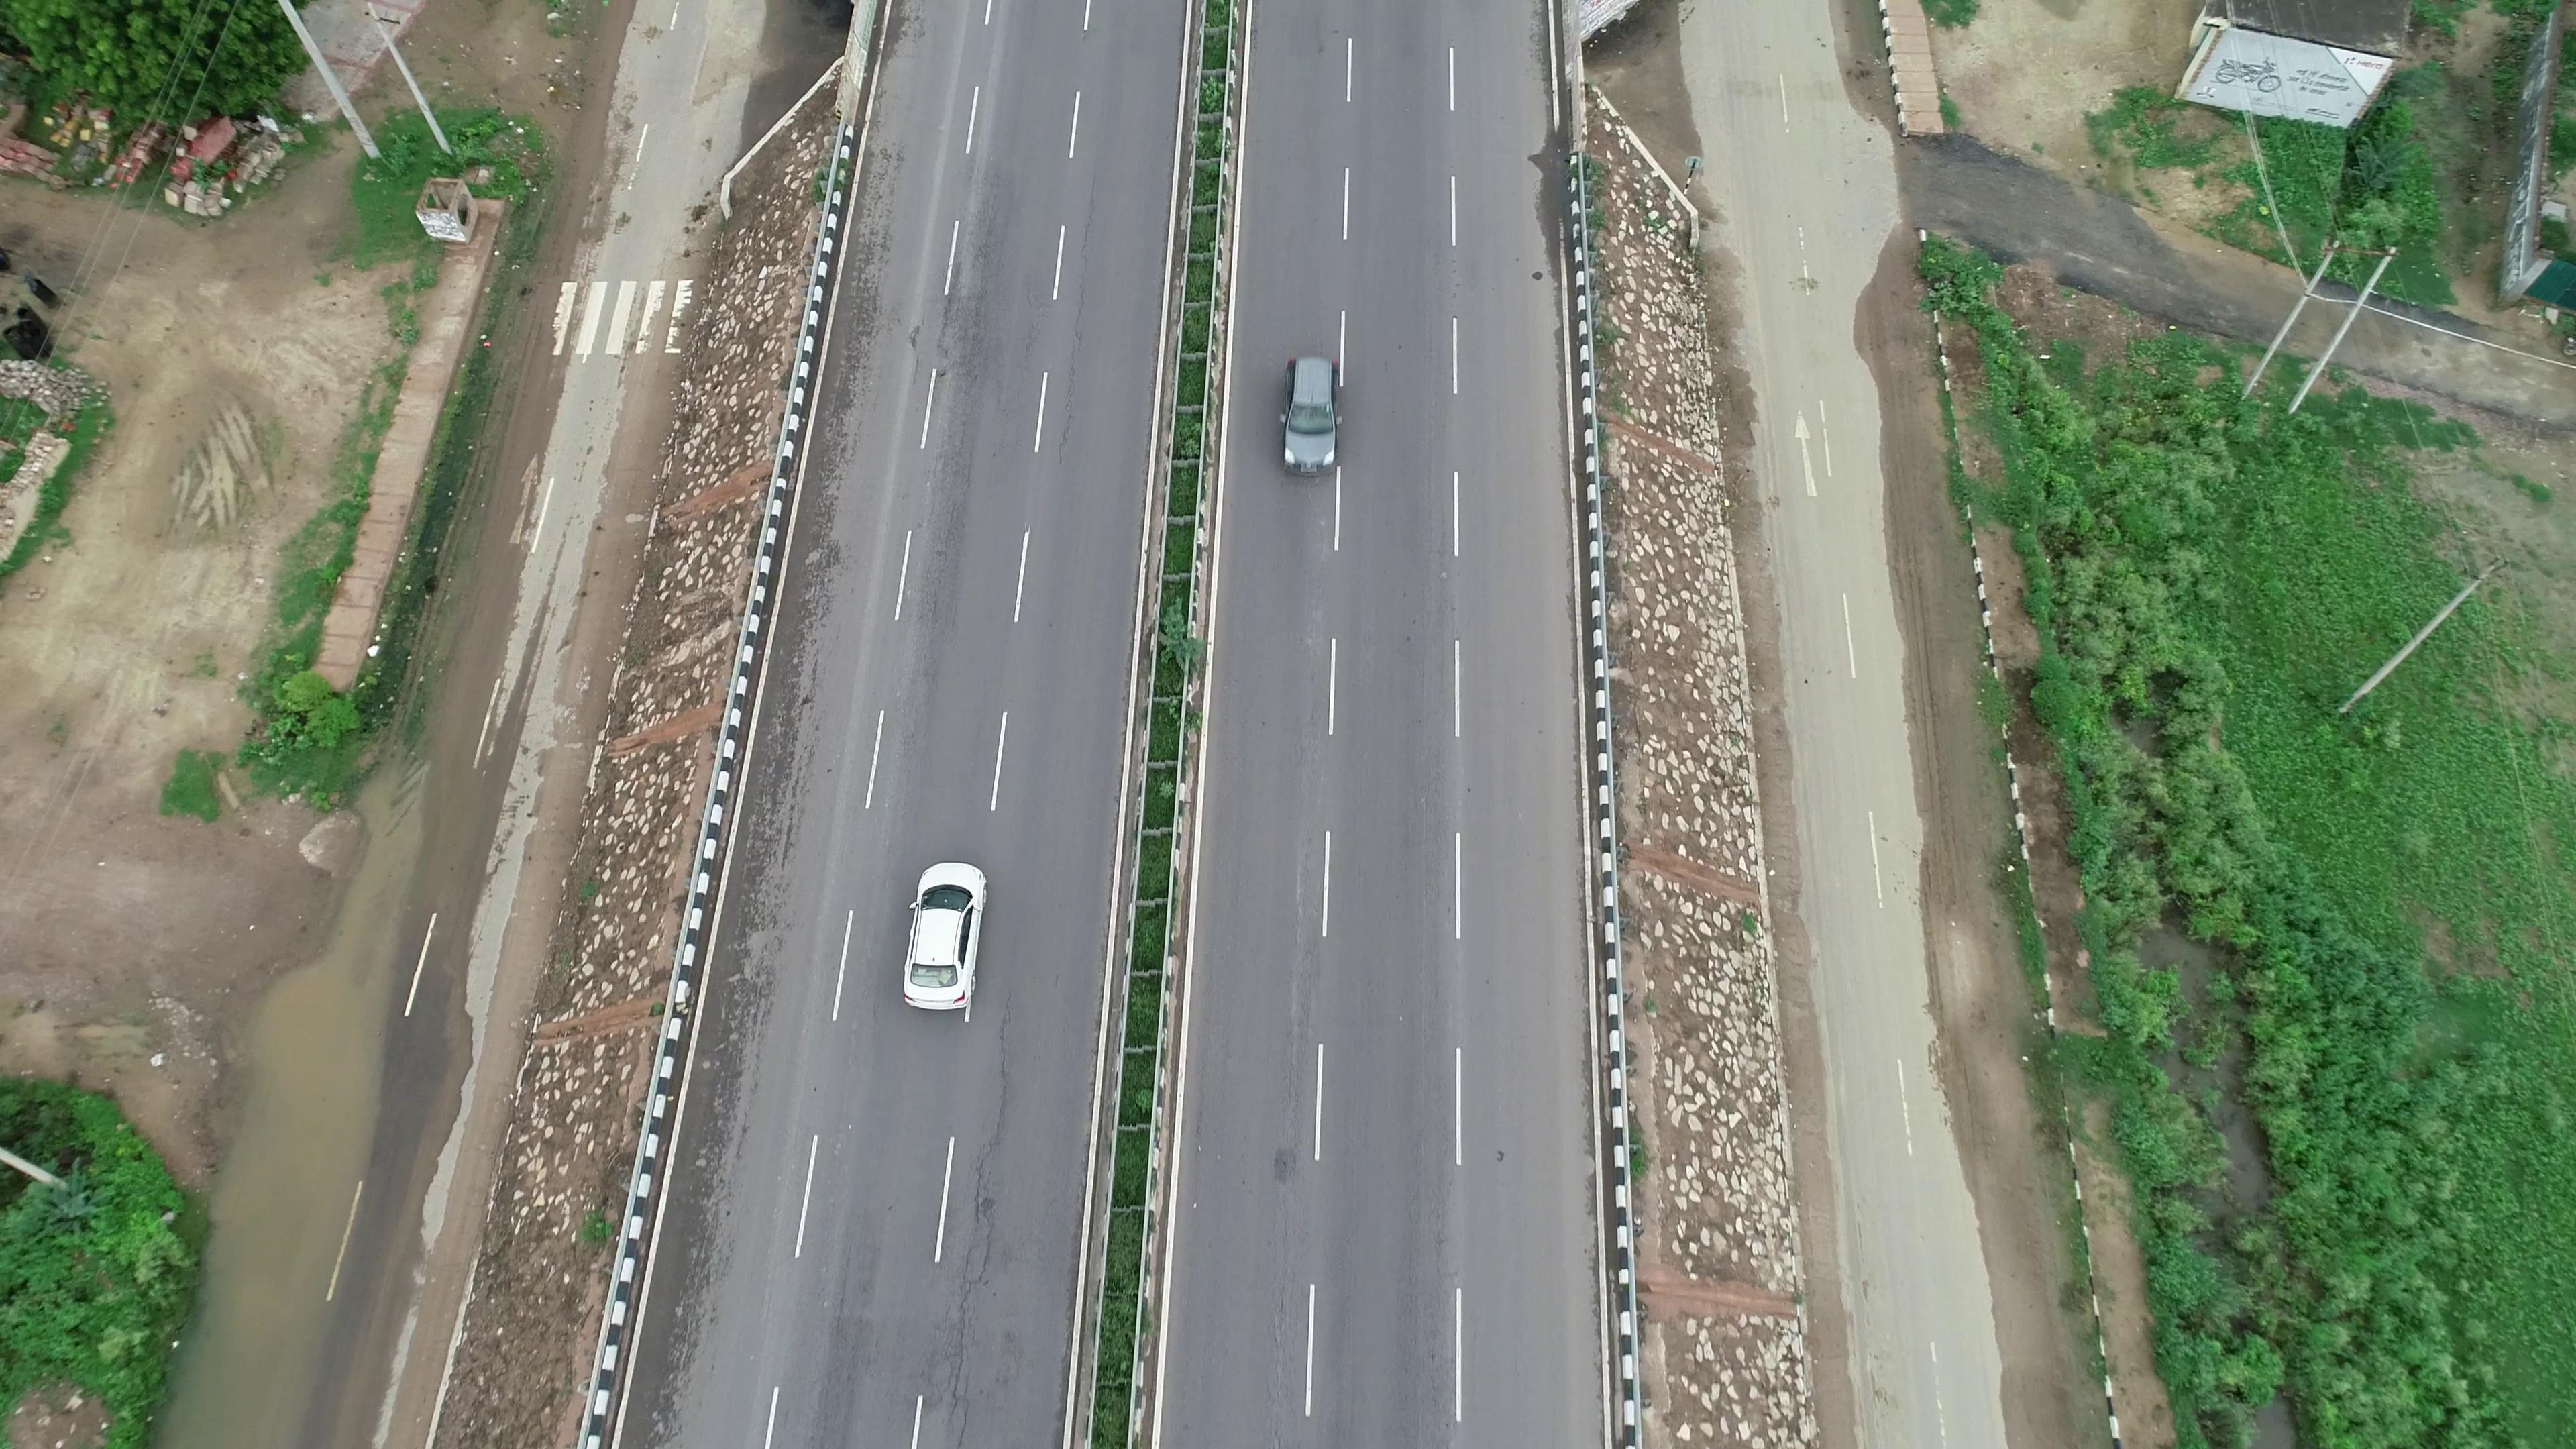Longitudinal_cracks: (925, 989, 1037, 1435), (1047, 170, 1108, 464)
